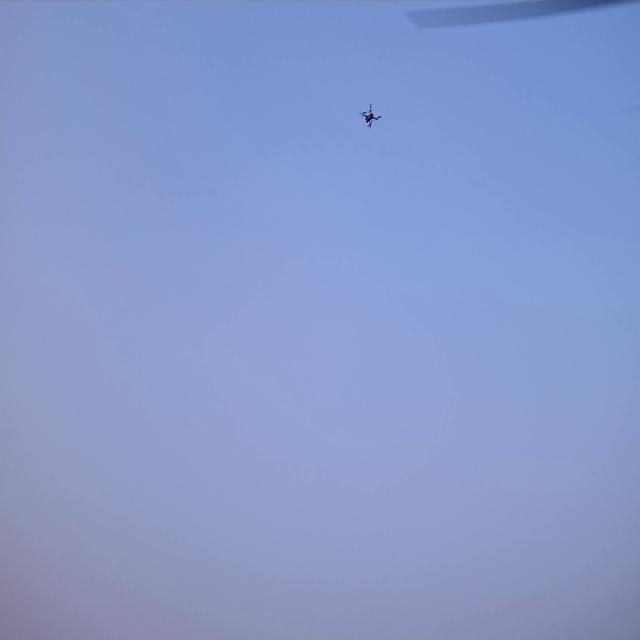UAV: (362, 106, 380, 128)
